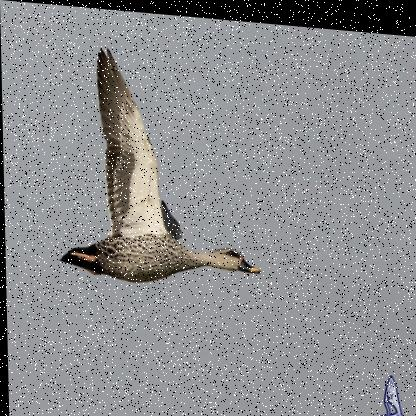Burung: (53, 42, 260, 289)
